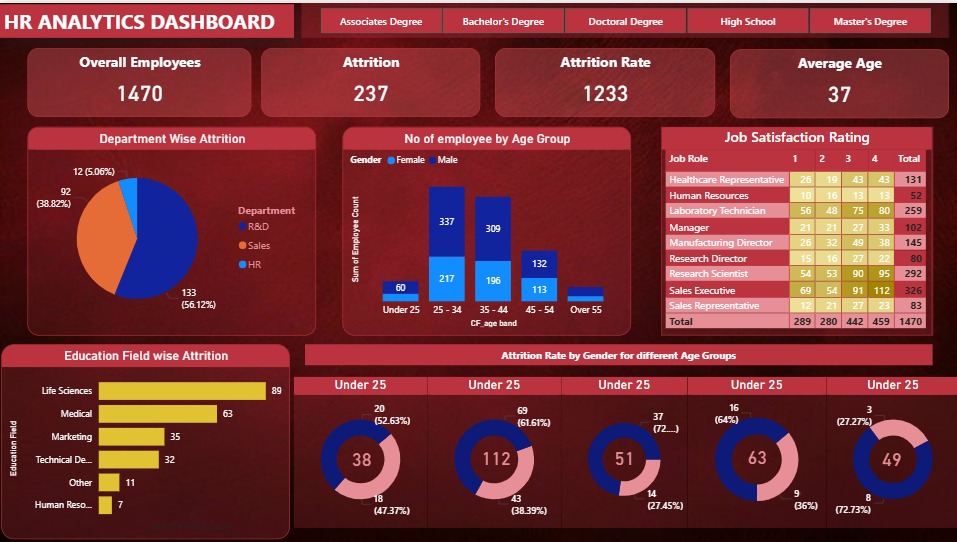

This screenshot's page, from the dashboard's own definition file:
{"tool":"powerbi","page":{"name":"Page 1","canvas":[1280,720],"ordinal":0},"visuals":[{"type":"card","title":"Overall Employees","fields":{"Values":["Sum(HR data.Employee Count)"]},"box":[36.7,60,298.3,91.7],"z":0},{"type":"card","title":"Attrition","fields":{"Values":["Sum(HR data.Attrition Count)"]},"box":[348.3,60,291.7,91.7],"z":1000},{"type":"card","title":"Attrition Rate","fields":{"Values":["HR data.Active Employees"]},"box":[660,60,293.3,91.7],"z":2000},{"type":"card","title":"Average Age","fields":{"Values":["Avg(HR data.Age)"]},"box":[973.3,61.7,291.7,91.7],"z":3000},{"type":"pieChart","title":"Department Wise Attrition","fields":{"Category":["HR data.Department"],"Y":["Sum(HR data.Attrition Count)"]},"box":[36.7,165,385,278.3],"z":4000},{"type":"columnChart","title":"No of employee by Age Group","fields":{"Category":["HR data.CF_age band"],"Y":["Sum(HR data.Employee Count)"],"Series":["HR data.Gender"]},"box":[456.7,165,385,278.3],"z":5000},{"type":"pivotTable","title":"Job Satisfaction Rating","fields":{"Rows":["HR data.Job Role"],"Columns":["HR data.Job Satisfaction"],"Values":["Sum(HR data.Employee Count)"]},"box":[881.7,165,361.7,278.3],"z":6000},{"type":"barChart","title":"Education Field wise Attrition ","fields":{"Category":["HR data.Education Field"],"Y":["Sum(HR data.Attrition Count)"]},"box":[1.7,455,385,260],"z":7000},{"type":"donutChart","title":"Under 25","fields":{"Category":["HR data.Gender"],"Y":["Sum(HR data.Attrition Count)"],"Series":["HR data.CF_age band"]},"box":[391.7,498.3,178.3,201.7],"z":8000},{"type":"textbox","box":[406.7,455,836.7,28.3],"z":9000},{"type":"donutChart","title":"Under 25","fields":{"Category":["HR data.Gender"],"Y":["Sum(HR data.Attrition Count)"],"Series":["HR data.CF_age band"]},"box":[570,498.3,178.3,201.7],"z":10000},{"type":"donutChart","title":"Under 25","fields":{"Category":["HR data.Gender"],"Y":["Sum(HR data.Attrition Count)"],"Series":["HR data.CF_age band"]},"box":[748.3,498.3,168.3,201.7],"z":11000},{"type":"donutChart","title":"Under 25","fields":{"Category":["HR data.Gender"],"Y":["Sum(HR data.Attrition Count)"],"Series":["HR data.CF_age band"]},"box":[916.7,498.3,185,201.7],"z":12000},{"type":"donutChart","title":"Under 25","fields":{"Category":["HR data.Gender"],"Y":["Sum(HR data.Attrition Count)"],"Series":["HR data.CF_age band"]},"box":[1101.7,498.3,178.3,201.7],"z":13000},{"type":"card","fields":{"Values":["Sum(HR data.Attrition Count)"]},"box":[456.7,585,51.7,46.7],"z":14000},{"type":"card","fields":{"Values":["Sum(HR data.Attrition Count)"]},"box":[981.7,585,56.7,41.7],"z":14001},{"type":"card","fields":{"Values":["Sum(HR data.Attrition Count)"]},"box":[806.7,585,51.7,45],"z":14002},{"type":"card","fields":{"Values":["Sum(HR data.Attrition Count)"]},"box":[633.3,585,56.7,45],"z":14003},{"type":"card","fields":{"Values":["Sum(HR data.Attrition Count)"]},"box":[1165,585,48.3,46.7],"z":14004},{"type":"textbox","box":[0,1.7,391.7,45],"z":14005},{"type":"slicer","fields":{"Values":["HR data.Education"]},"box":[401.7,0,863.3,46.7],"z":14006}]}

Visuals, with their boxes in screenshot pixels (x1, y1, x2, y2), scaled from the page's 1280x720 canvas onto the 957x542 screenshot:
"Overall Employees" card: 27:45:250:114
"Attrition" card: 260:45:478:114
"Attrition Rate" card: 493:45:713:114
"Average Age" card: 728:46:946:115
"Department Wise Attrition" pieChart: 27:124:315:334
"No of employee by Age Group" columnChart: 341:124:629:334
"Job Satisfaction Rating" pivotTable: 659:124:930:334
"Education Field wise Attrition " barChart: 1:343:289:538
"Under 25" donutChart: 293:375:426:527
textbox: 304:343:930:364
"Under 25" donutChart: 426:375:559:527
"Under 25" donutChart: 559:375:685:527
"Under 25" donutChart: 685:375:824:527
"Under 25" donutChart: 824:375:956:527
card - Sum(HR data.Attrition Count): 341:440:380:476
card - Sum(HR data.Attrition Count): 734:440:776:472
card - Sum(HR data.Attrition Count): 603:440:642:474
card - Sum(HR data.Attrition Count): 473:440:516:474
card - Sum(HR data.Attrition Count): 871:440:907:476
textbox: 0:1:293:35
slicer - HR data.Education: 300:0:946:35
